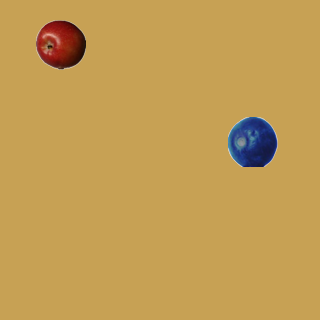Apple Braeburn: (35, 19, 85, 69)
Huckleberry: (227, 116, 277, 166)
